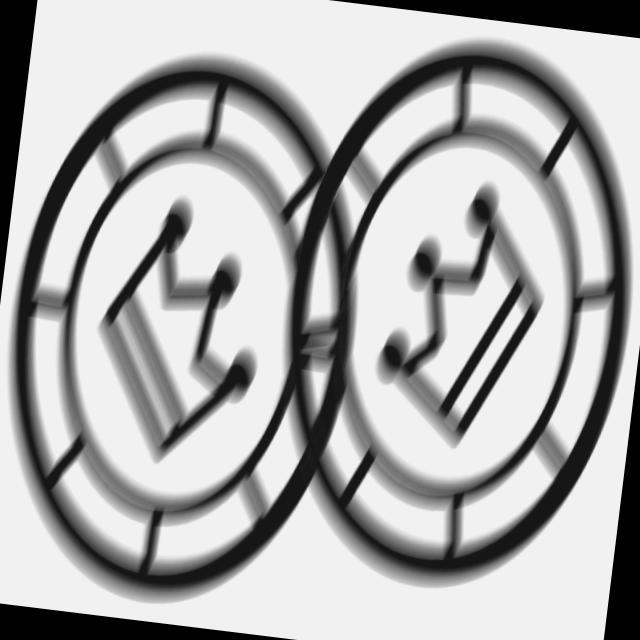coin: (1, 22, 396, 629), (244, 15, 640, 618)
